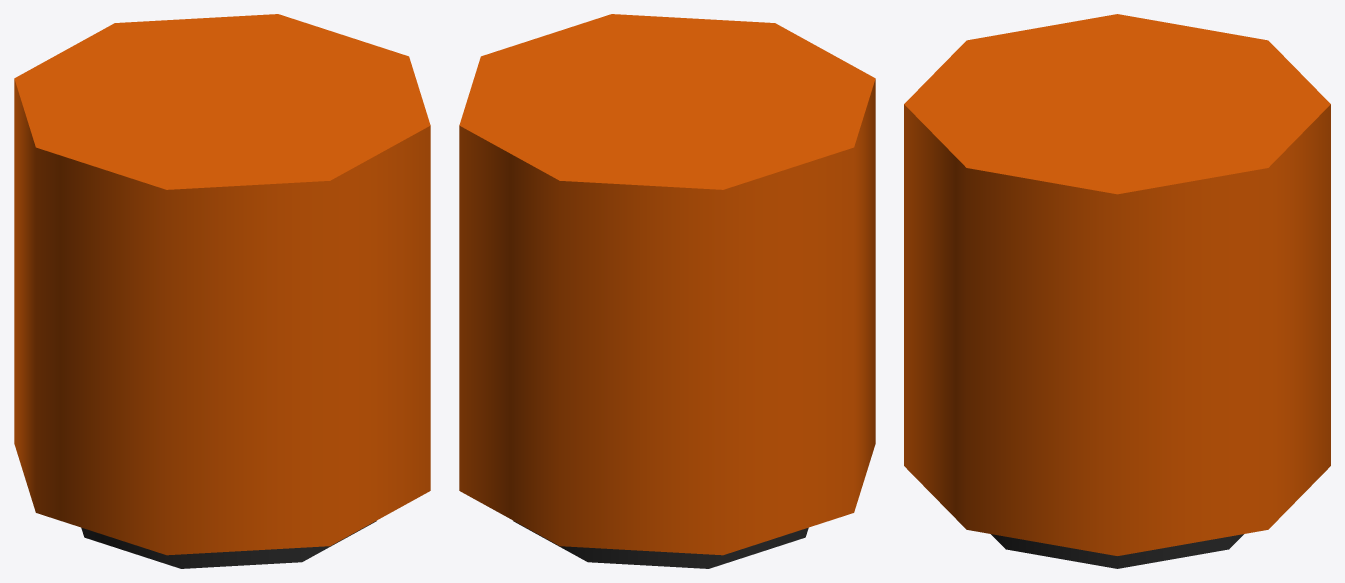
The model's file is orange-stool.glb.
The picture shows the model from 3 angles, left to right: view 1: azimuth 30°, elevation 25°; view 2: azimuth 150°, elevation 25°; view 3: azimuth 270°, elevation 25°; orthographic projection.
Parts seen in each view (by area): view 1: orange chair; view 2: orange chair; view 3: orange chair.
Part boxes in pixels (x1,y1,x2,y2): orange chair: (14, 14, 430, 568); orange chair: (459, 14, 875, 568); orange chair: (904, 14, 1330, 568).
Size of the model in its own units: 0.4276 by 0.44 by 0.4276.
